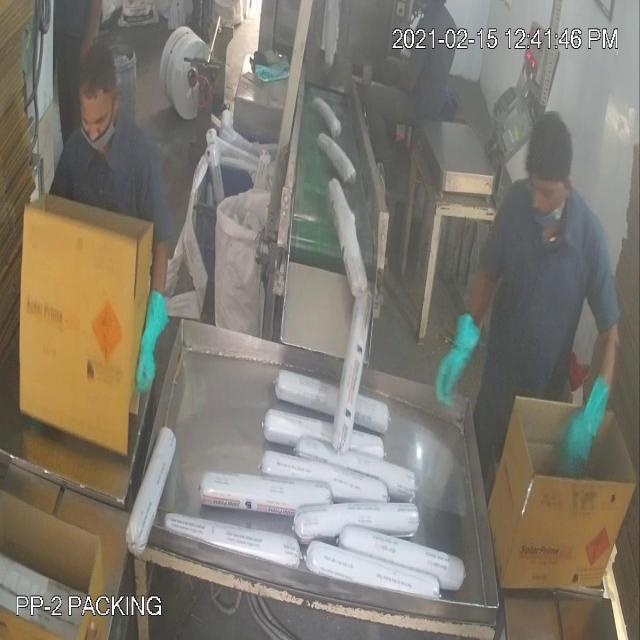Gloves: (54, 39, 584, 416)
